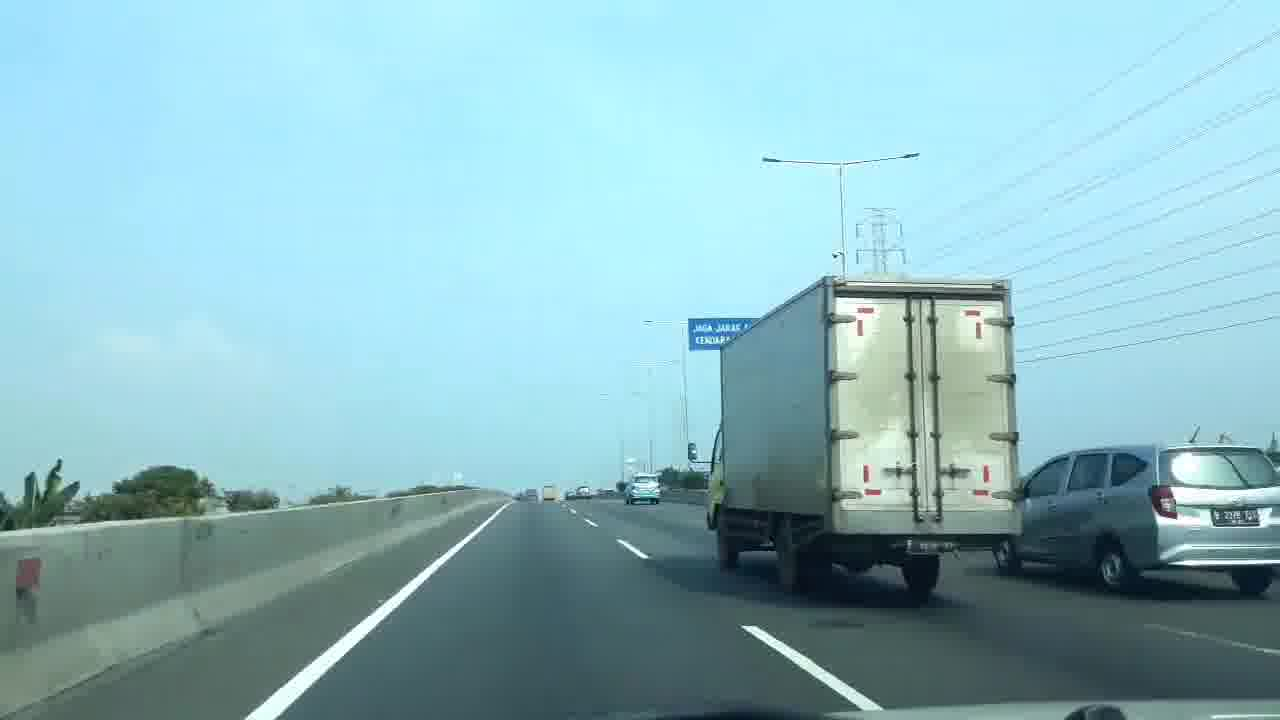plate_positive: (905, 536, 958, 555), (1212, 508, 1260, 527)
